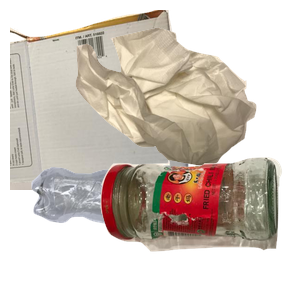cardboard: (10, 10, 191, 190)
glass: (98, 155, 300, 300)
plastic: (29, 165, 227, 300)
trash: (73, 25, 300, 183)
